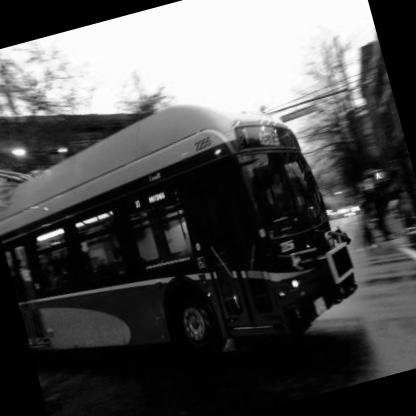bus: (1, 68, 384, 416)
